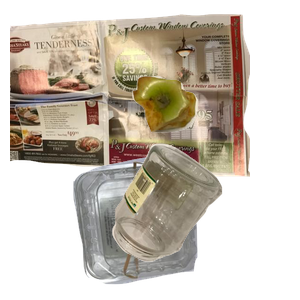glass: (110, 141, 300, 300)
paper: (10, 11, 250, 180)
plastic: (71, 154, 300, 300)
trash: (130, 74, 300, 199)
